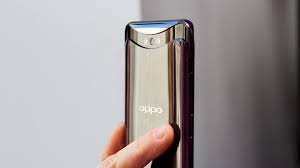oppo: (120, 16, 198, 168)
